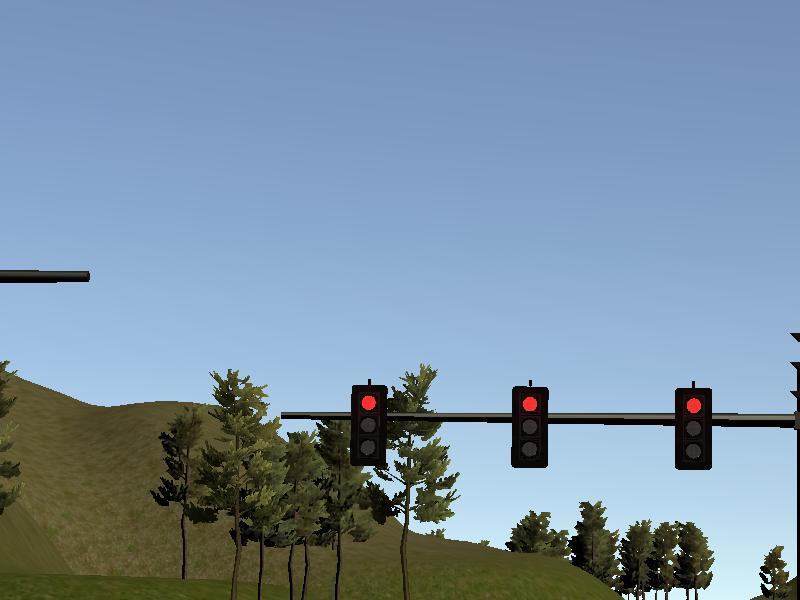Red: (675, 387, 712, 467), (513, 386, 547, 467), (351, 385, 385, 463)
